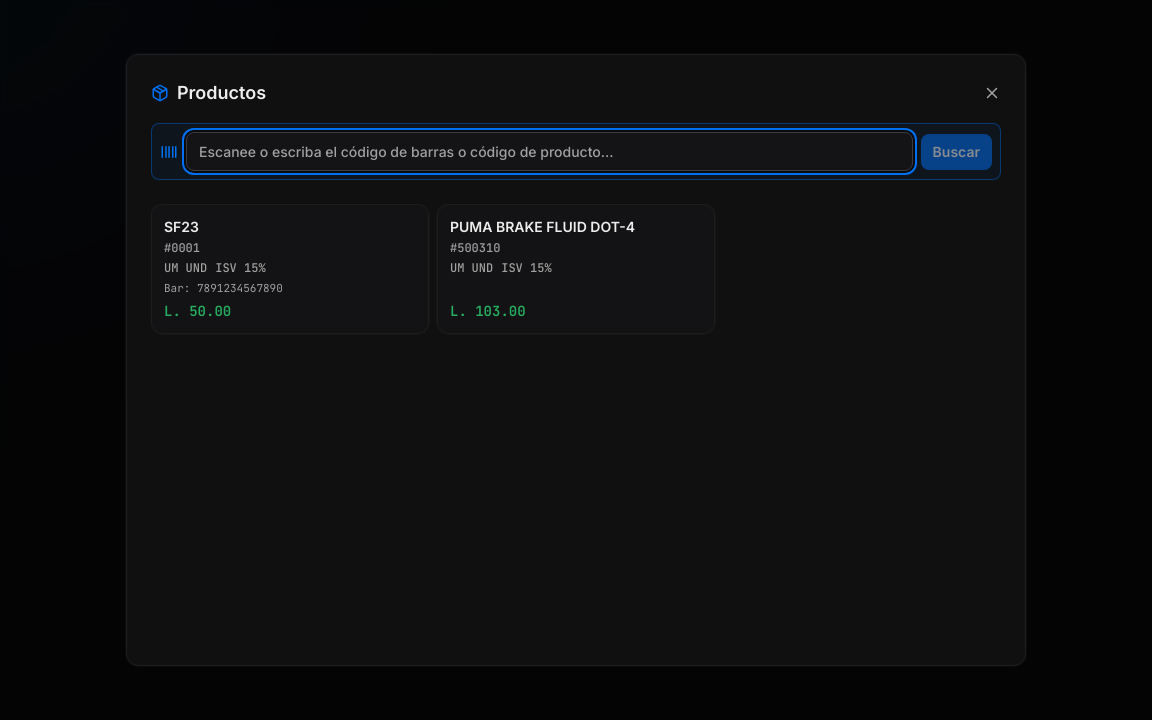
Test: ProductModal › muestra aviso si un código de barras es de combustible
In the field with placeholder "Escanee o escriba el código de barras o código de producto…": (549, 152) [186,132,913,171], type "123"
Then press Enter
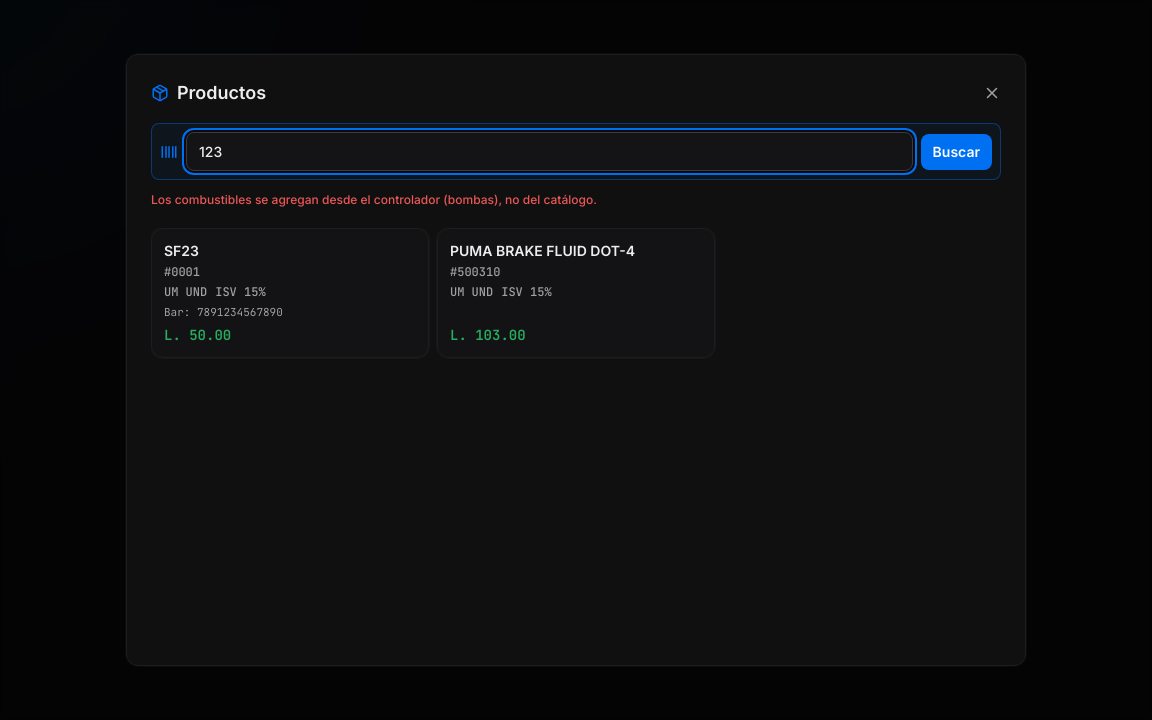
Expected: the text "se agregan desde el controlador" is shown, [151,192,597,207]
